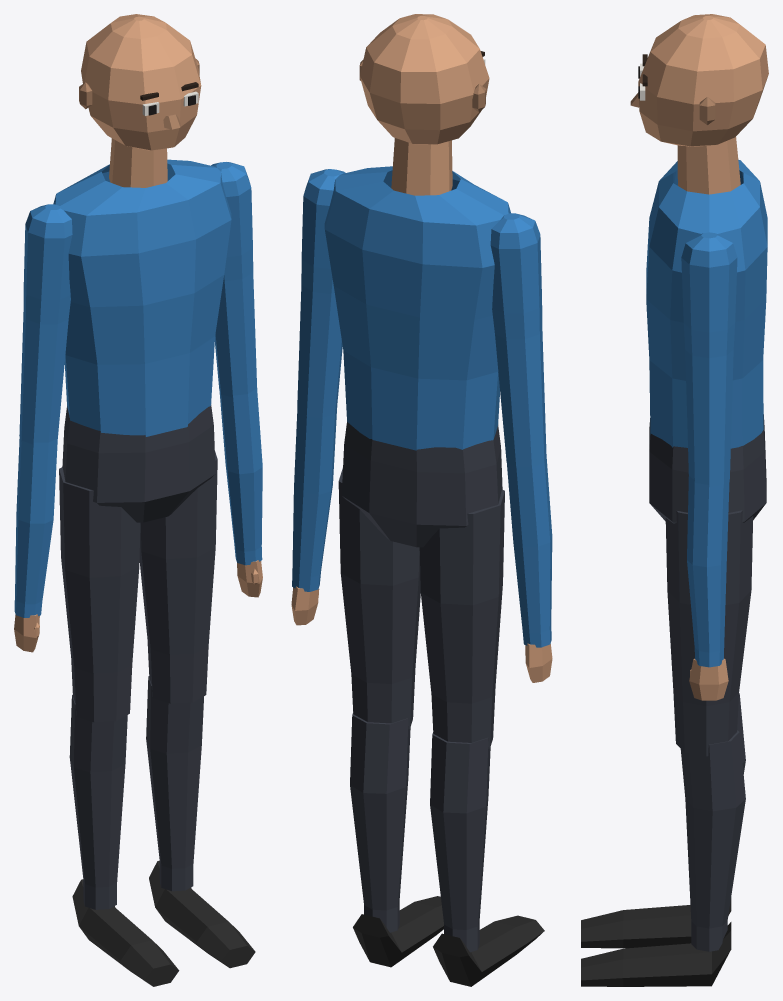
File: ado_h_mince.glb
3 views of the same model, side by side, from view 1: azimuth 30°, elevation 25°; view 2: azimuth 150°, elevation 25°; view 3: azimuth 270°, elevation 25° (orthographic). The views are drawn at different scales.
Visible parts, largest first — view 1: torse, jambe_d, tete, jambe_g, tibia_g, tibia_d, bassin, bras_d, bras_g, avant_bras_d, avant_bras_g; view 2: torse, jambe_d, tete, tibia_d, jambe_g, tibia_g, bassin, bras_d, bras_g, avant_bras_d, avant_bras_g; view 3: torse, tete, tibia_g, bras_g, jambe_g, avant_bras_g, bassin, tibia_d.
Boxes of the visible parts, x1,y1,x2,y2 form: torse: [53, 159, 231, 436]; jambe_d: [59, 467, 140, 722]; tete: [79, 14, 201, 187]; jambe_g: [139, 451, 217, 703]; tibia_g: [146, 676, 255, 968]; tibia_d: [69, 694, 179, 986]; bassin: [62, 404, 215, 522]; bras_d: [19, 204, 72, 444]; bras_g: [211, 162, 257, 397]; avant_bras_d: [14, 437, 57, 652]; avant_bras_g: [219, 388, 262, 597]; torse: [324, 166, 510, 450]; jambe_d: [419, 489, 504, 748]; tete: [359, 14, 489, 195]; tibia_d: [430, 732, 544, 986]; jambe_g: [338, 468, 420, 729]; tibia_g: [350, 712, 443, 967]; bassin: [341, 422, 502, 547]; bras_d: [490, 213, 546, 467]; bras_g: [297, 169, 345, 417]; avant_bras_d: [507, 455, 552, 682]; avant_bras_g: [291, 406, 337, 625]; torse: [646, 159, 767, 448]; tete: [630, 14, 768, 194]; tibia_g: [581, 730, 745, 986]; bras_g: [681, 232, 737, 486]; jambe_g: [665, 510, 753, 756]; avant_bras_g: [687, 476, 729, 700]; bassin: [649, 414, 766, 523]; tibia_d: [581, 693, 745, 948].
Size of the model in its own units: 0.4605 by 1.64 by 0.2952.
1 material, 1 textured.
